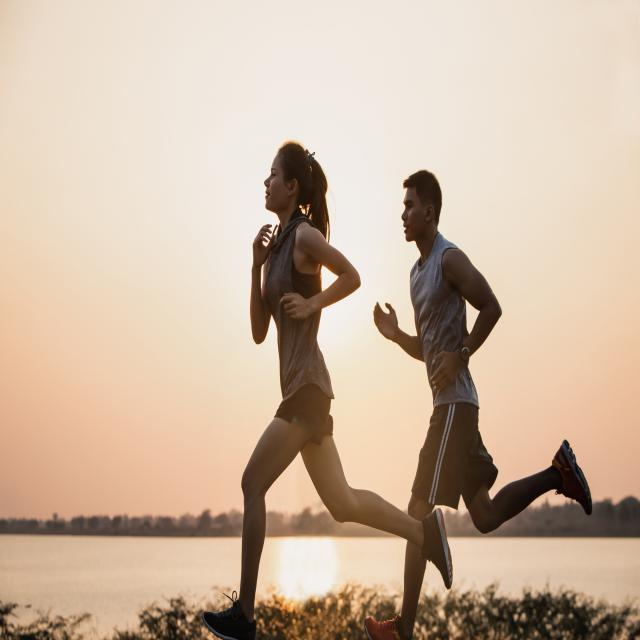running: (367, 166, 595, 640), (197, 136, 370, 640)
